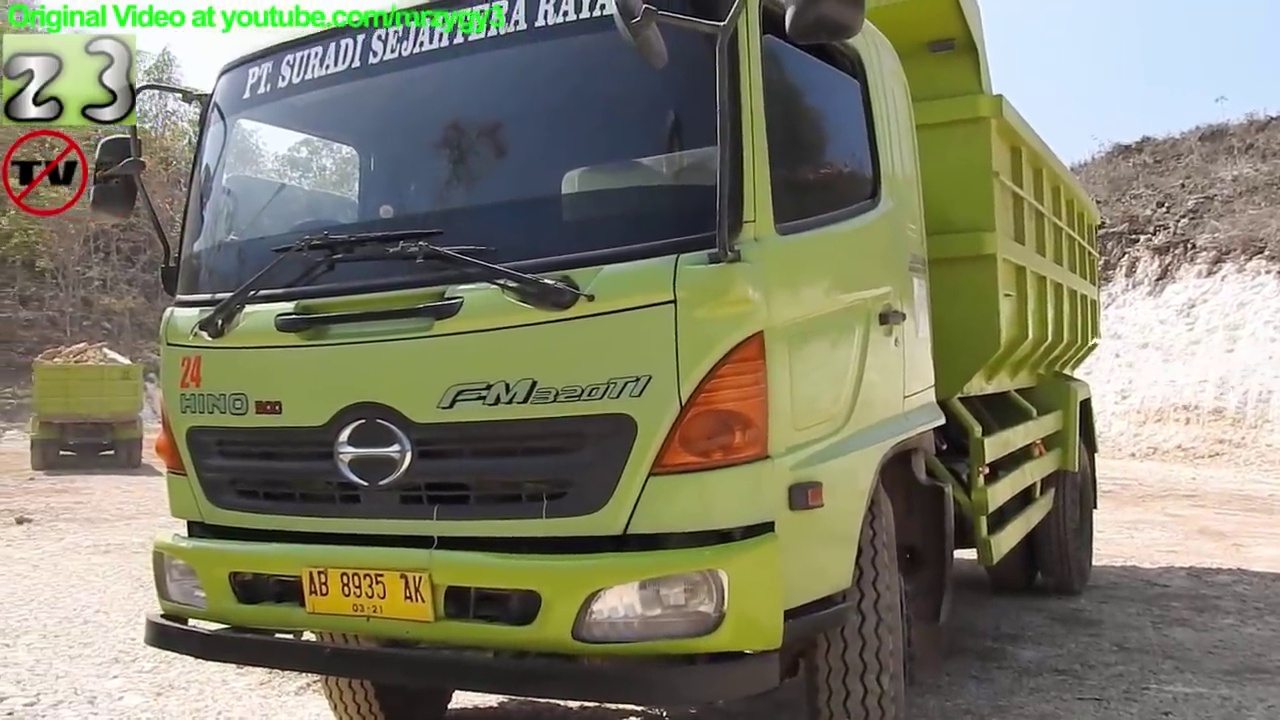truck: (82, 1, 1116, 720), (26, 352, 148, 478)
